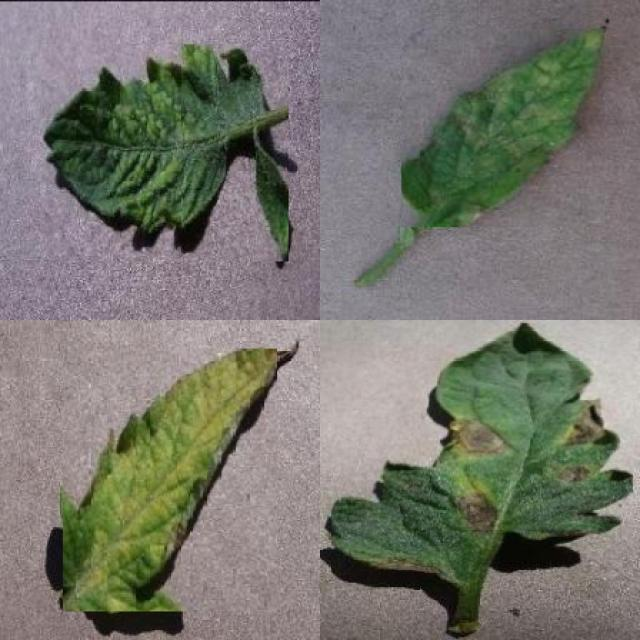Early Blight: (331, 324, 633, 584)
Leaf Mold: (62, 348, 278, 612), (402, 29, 604, 227)
Mosaic Virus: (42, 45, 288, 262)
